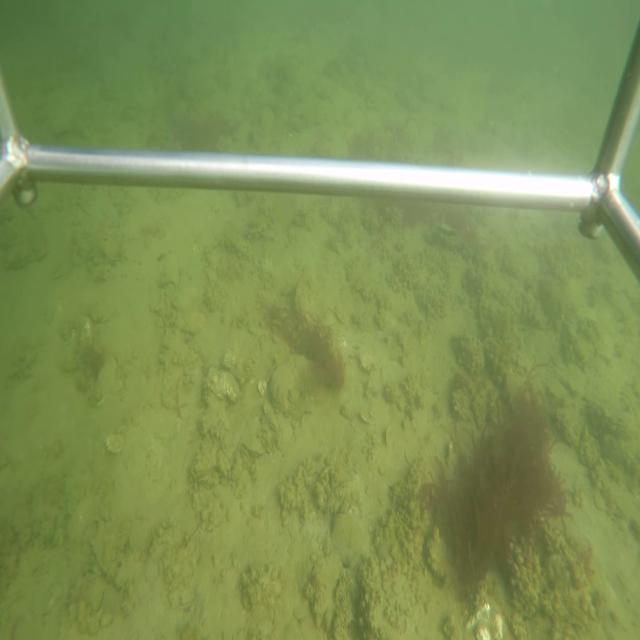Oyster-Closed: (266, 352, 331, 422), (240, 430, 271, 460)
Oyster-Indeterminate: (543, 358, 637, 438), (293, 273, 326, 332)
